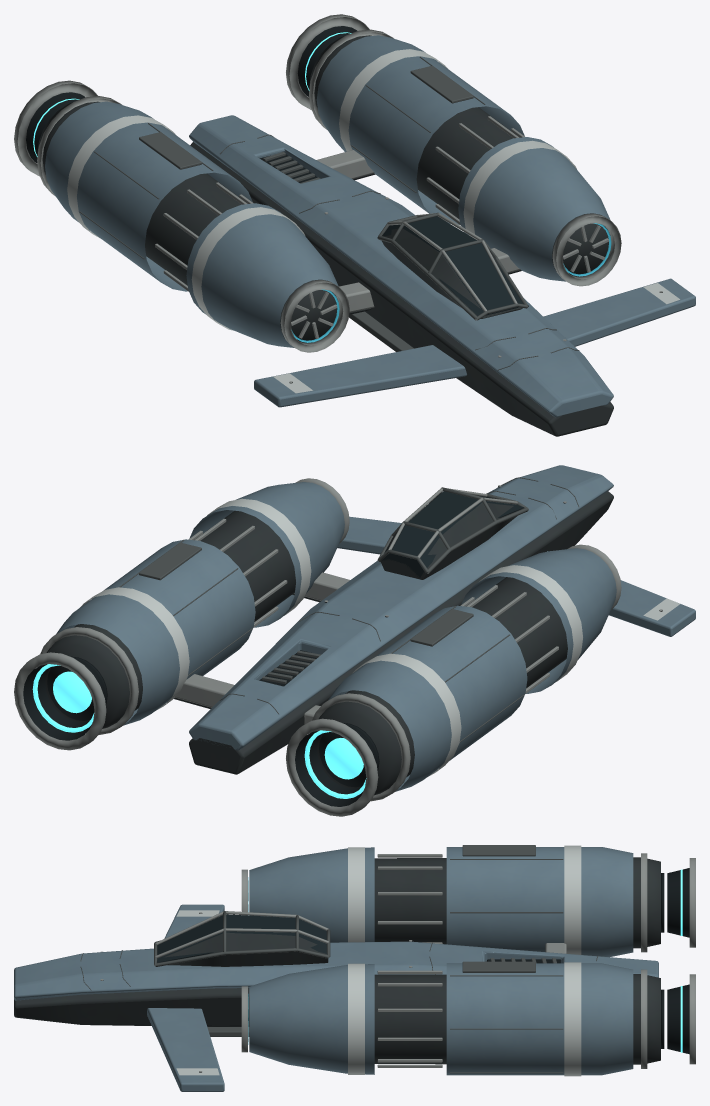
File: latch.glb
3 renders of one model, top to bottom at view 1: azimuth 30°, elevation 25°; view 2: azimuth 150°, elevation 25°; view 3: azimuth 270°, elevation 25°, orthographic. The views are drawn at different scales.
Parts seen in each view (by area): view 1: latch_Ceramic_Geometry, latch_carbon_Geometry, latch_metal_Geometry, latch_accent_Geometry, latch_edge_Geometry, latch_glass_Geometry, latch_vent_Geometry; view 2: latch_Ceramic_Geometry, latch_carbon_Geometry, latch_metal_Geometry, latch_accent_Geometry, latch_vent_Geometry, latch_edge_Geometry, latch_Ion_Geometry, latch_glass_Geometry; view 3: latch_Ceramic_Geometry, latch_carbon_Geometry, latch_accent_Geometry, latch_metal_Geometry, latch_edge_Geometry, latch_vent_Geometry, latch_glass_Geometry, latch_Ion_Geometry.
Part boxes in pixels (x1=…): latch_Ceramic_Geometry: x1=45, y1=35, x2=695, y2=417; latch_carbon_Geometry: x1=37, y1=35, x2=613, y2=436; latch_metal_Geometry: x1=14, y1=14, x2=662, y2=383; latch_accent_Geometry: x1=67, y1=49, x2=679, y2=393; latch_edge_Geometry: x1=79, y1=56, x2=579, y2=370; latch_glass_Geometry: x1=382, y1=216, x2=523, y2=315; latch_vent_Geometry: x1=26, y1=26, x2=356, y2=182; latch_Ceramic_Geometry: x1=56, y1=465, x2=695, y2=791; latch_carbon_Geometry: x1=45, y1=491, x2=613, y2=795; latch_metal_Geometry: x1=14, y1=478, x2=662, y2=816; latch_accent_Geometry: x1=80, y1=498, x2=679, y2=776; latch_vent_Geometry: x1=23, y1=650, x2=379, y2=806; latch_edge_Geometry: x1=119, y1=477, x2=579, y2=742; latch_Ion_Geometry: x1=32, y1=664, x2=366, y2=798; latch_glass_Geometry: x1=382, y1=491, x2=524, y2=577; latch_Ceramic_Geometry: x1=14, y1=847, x2=658, y2=1091; latch_carbon_Geometry: x1=14, y1=857, x2=660, y2=1064; latch_accent_Geometry: x1=176, y1=845, x2=581, y2=1076; latch_metal_Geometry: x1=100, y1=853, x2=695, y2=1072; latch_edge_Geometry: x1=80, y1=845, x2=598, y2=1073; latch_vent_Geometry: x1=487, y1=868, x2=689, y2=1054; latch_glass_Geometry: x1=156, y1=914, x2=326, y2=962; latch_Ion_Geometry: x1=680, y1=869, x2=682, y2=1052.
Bounding box in the file's own units: 4 × 1.14 × 6.43.
9 materials, 3 textured.
